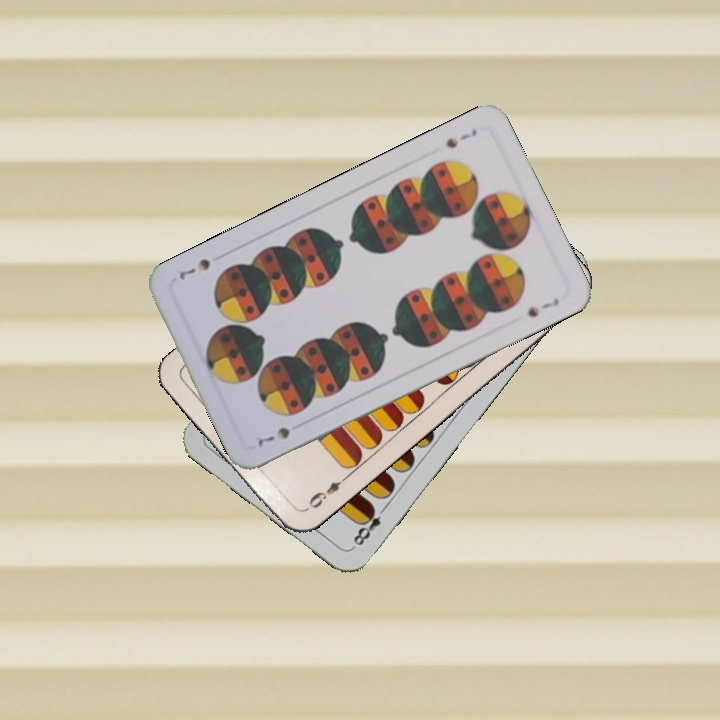E8: (348, 501, 390, 551)
E9: (299, 472, 350, 515)
S7: (253, 423, 293, 450), (442, 124, 480, 151)
